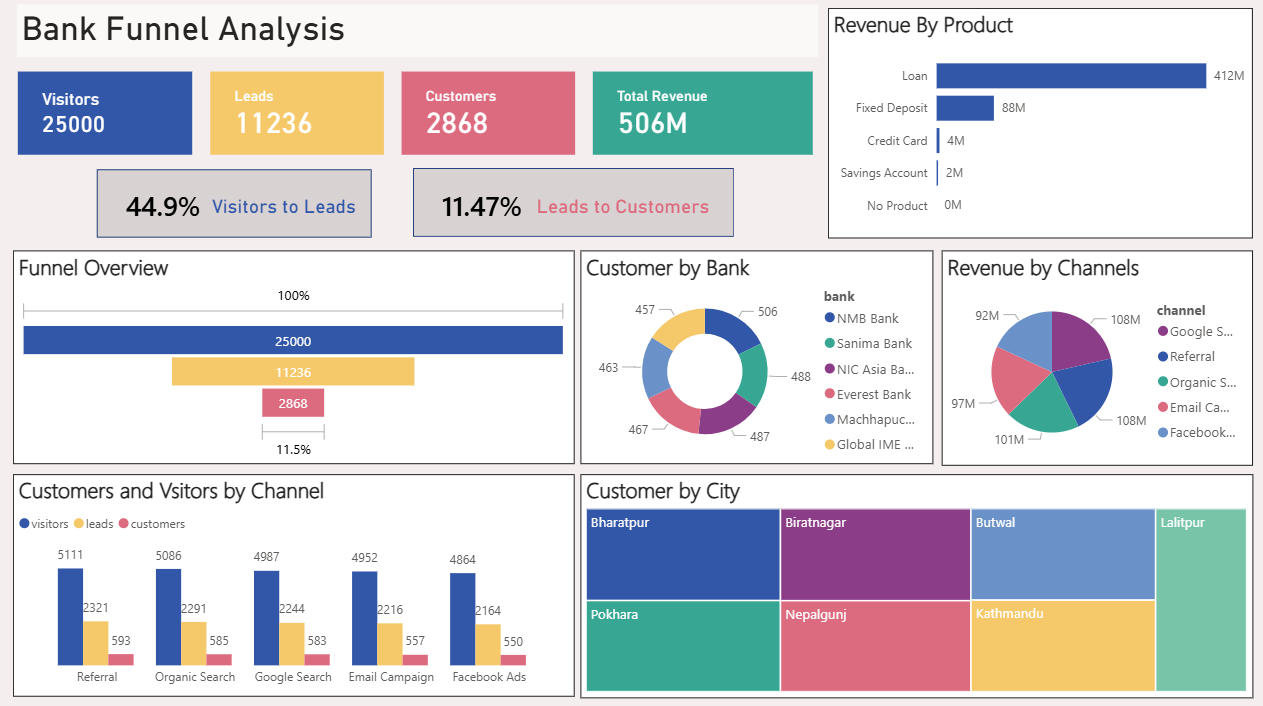

The dashboard page shown, as its layout file describes it:
{"tool":"powerbi","page":{"name":"Page 1","canvas":[1280,720],"ordinal":0},"visuals":[{"type":"shape","box":[419.4,175.1,321.1,68.9],"z":0,"group":"g4"},{"type":"cardVisual","fields":{"Data":["cleaned_funnel_datasets.Lead %"]},"box":[103.7,175.8,143.4,68.4],"z":0,"group":"g1"},{"type":"shape","box":[103.7,175.8,274.9,68.4],"z":0,"group":"g3"},{"type":"cardVisual","fields":{"Data":["cleaned_funnel_datasets.customer %"]},"box":[420,176.1,142.7,68.9],"z":0,"group":"g2"},{"type":"funnel","title":"Funnel Overview","fields":{"Category":["Funnel Stages.Stage"],"Y":["Funnel Stages.Funnel Value"]},"box":[20.5,257.5,561.2,213.8],"z":0},{"type":"group","id":"g1","title":"Group 1","box":[103.7,175.8,274.9,68.4],"z":1000,"group":"g3"},{"type":"group","id":"g2","title":"Group 1","box":[420,176.1,320.9,68.9],"z":1000,"group":"g4"},{"type":"treemap","title":"Customer by City","fields":{"Group":["cleaned_funnel_datasets.city"],"Values":["Sum(cleaned_funnel_datasets.customer)"]},"box":[588,481.2,672.5,223.8],"z":1000},{"type":"clusteredBarChart","title":"Revenue By Product","fields":{"Category":["cleaned_funnel_datasets.product"],"Y":["Sum(cleaned_funnel_datasets.revenue)"]},"box":[835,15,425,230],"z":2000},{"type":"cardVisual","fields":{"Data":["Sum(cleaned_funnel_datasets.revenue)"]},"box":[595.5,73.8,230,93.8],"z":3000},{"type":"clusteredColumnChart","title":"Customers and Vsitors by Channel","fields":{"Category":["cleaned_funnel_datasets.channel"],"Y":["Sum(cleaned_funnel_datasets.visited)","Sum(cleaned_funnel_datasets.lead)","Sum(cleaned_funnel_datasets.customer)"]},"box":[20.5,481.2,561.2,222.5],"z":4000},{"type":"donutChart","title":"Customer by Bank","fields":{"Category":["cleaned_funnel_datasets.bank"],"Y":["Sum(cleaned_funnel_datasets.customer)"]},"box":[588,257.5,352.5,213.8],"z":5000},{"type":"textbox","box":[24.3,11.2,801.2,52.5],"z":6000},{"type":"cardVisual","fields":{"Data":["Sum(cleaned_funnel_datasets.visited)"]},"box":[20.3,74.2,184.1,93.3],"z":7000},{"type":"cardVisual","fields":{"Data":["Sum(cleaned_funnel_datasets.lead)"]},"box":[212.3,73.8,183.8,93.8],"z":8000},{"type":"cardVisual","fields":{"Data":["Sum(cleaned_funnel_datasets.customer)"]},"box":[403.9,73.8,183.8,93.8],"z":9000},{"type":"group","id":"g3","title":"Group 2","box":[103.7,175.8,275.7,68.6],"z":10000},{"type":"group","id":"g4","title":"Group 3","box":[419.4,175.1,321.4,70],"z":11000},{"type":"pieChart","title":"Revenue by Channels","fields":{"Y":["Sum(cleaned_funnel_datasets.revenue)"],"Category":["cleaned_funnel_datasets.channel"]},"box":[948.8,257.5,311.2,215],"z":12000},{"type":"textbox","box":[213.9,196.9,164.7,34.8],"z":13001,"group":"g1"},{"type":"textbox","box":[538.7,197.1,202.2,44.4],"z":13001,"group":"g2"}]}

Visuals, with their boxes in screenshot pixels (x1, y1, x2, y2), scaled from the page's 1280x720 canvas onto the 1263x706 screenshot:
shape: x1=414 y1=172 x2=731 y2=239
cardVisual - cleaned_funnel_datasets.Lead %: x1=102 y1=172 x2=244 y2=239
shape: x1=102 y1=172 x2=374 y2=239
cardVisual - cleaned_funnel_datasets.customer %: x1=414 y1=173 x2=555 y2=240
"Funnel Overview" funnel: x1=20 y1=252 x2=574 y2=462
"Group 1" group: x1=102 y1=172 x2=374 y2=239
"Group 1" group: x1=414 y1=173 x2=731 y2=240
"Customer by City" treemap: x1=580 y1=472 x2=1244 y2=691
"Revenue By Product" clusteredBarChart: x1=824 y1=15 x2=1243 y2=240
cardVisual - Sum(cleaned_funnel_datasets.revenue): x1=588 y1=72 x2=815 y2=164
"Customers and Vsitors by Channel" clusteredColumnChart: x1=20 y1=472 x2=574 y2=690
"Customer by Bank" donutChart: x1=580 y1=252 x2=928 y2=462
textbox: x1=24 y1=11 x2=815 y2=62
cardVisual - Sum(cleaned_funnel_datasets.visited): x1=20 y1=73 x2=202 y2=164
cardVisual - Sum(cleaned_funnel_datasets.lead): x1=209 y1=72 x2=391 y2=164
cardVisual - Sum(cleaned_funnel_datasets.customer): x1=399 y1=72 x2=580 y2=164
"Group 2" group: x1=102 y1=172 x2=374 y2=240
"Group 3" group: x1=414 y1=172 x2=731 y2=240
"Revenue by Channels" pieChart: x1=936 y1=252 x2=1243 y2=463
textbox: x1=211 y1=193 x2=374 y2=227
textbox: x1=532 y1=193 x2=731 y2=237
